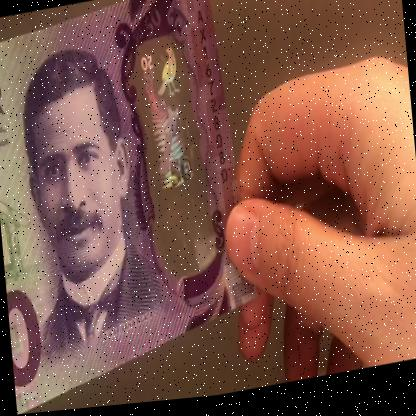50F: (134, 38, 207, 264)
